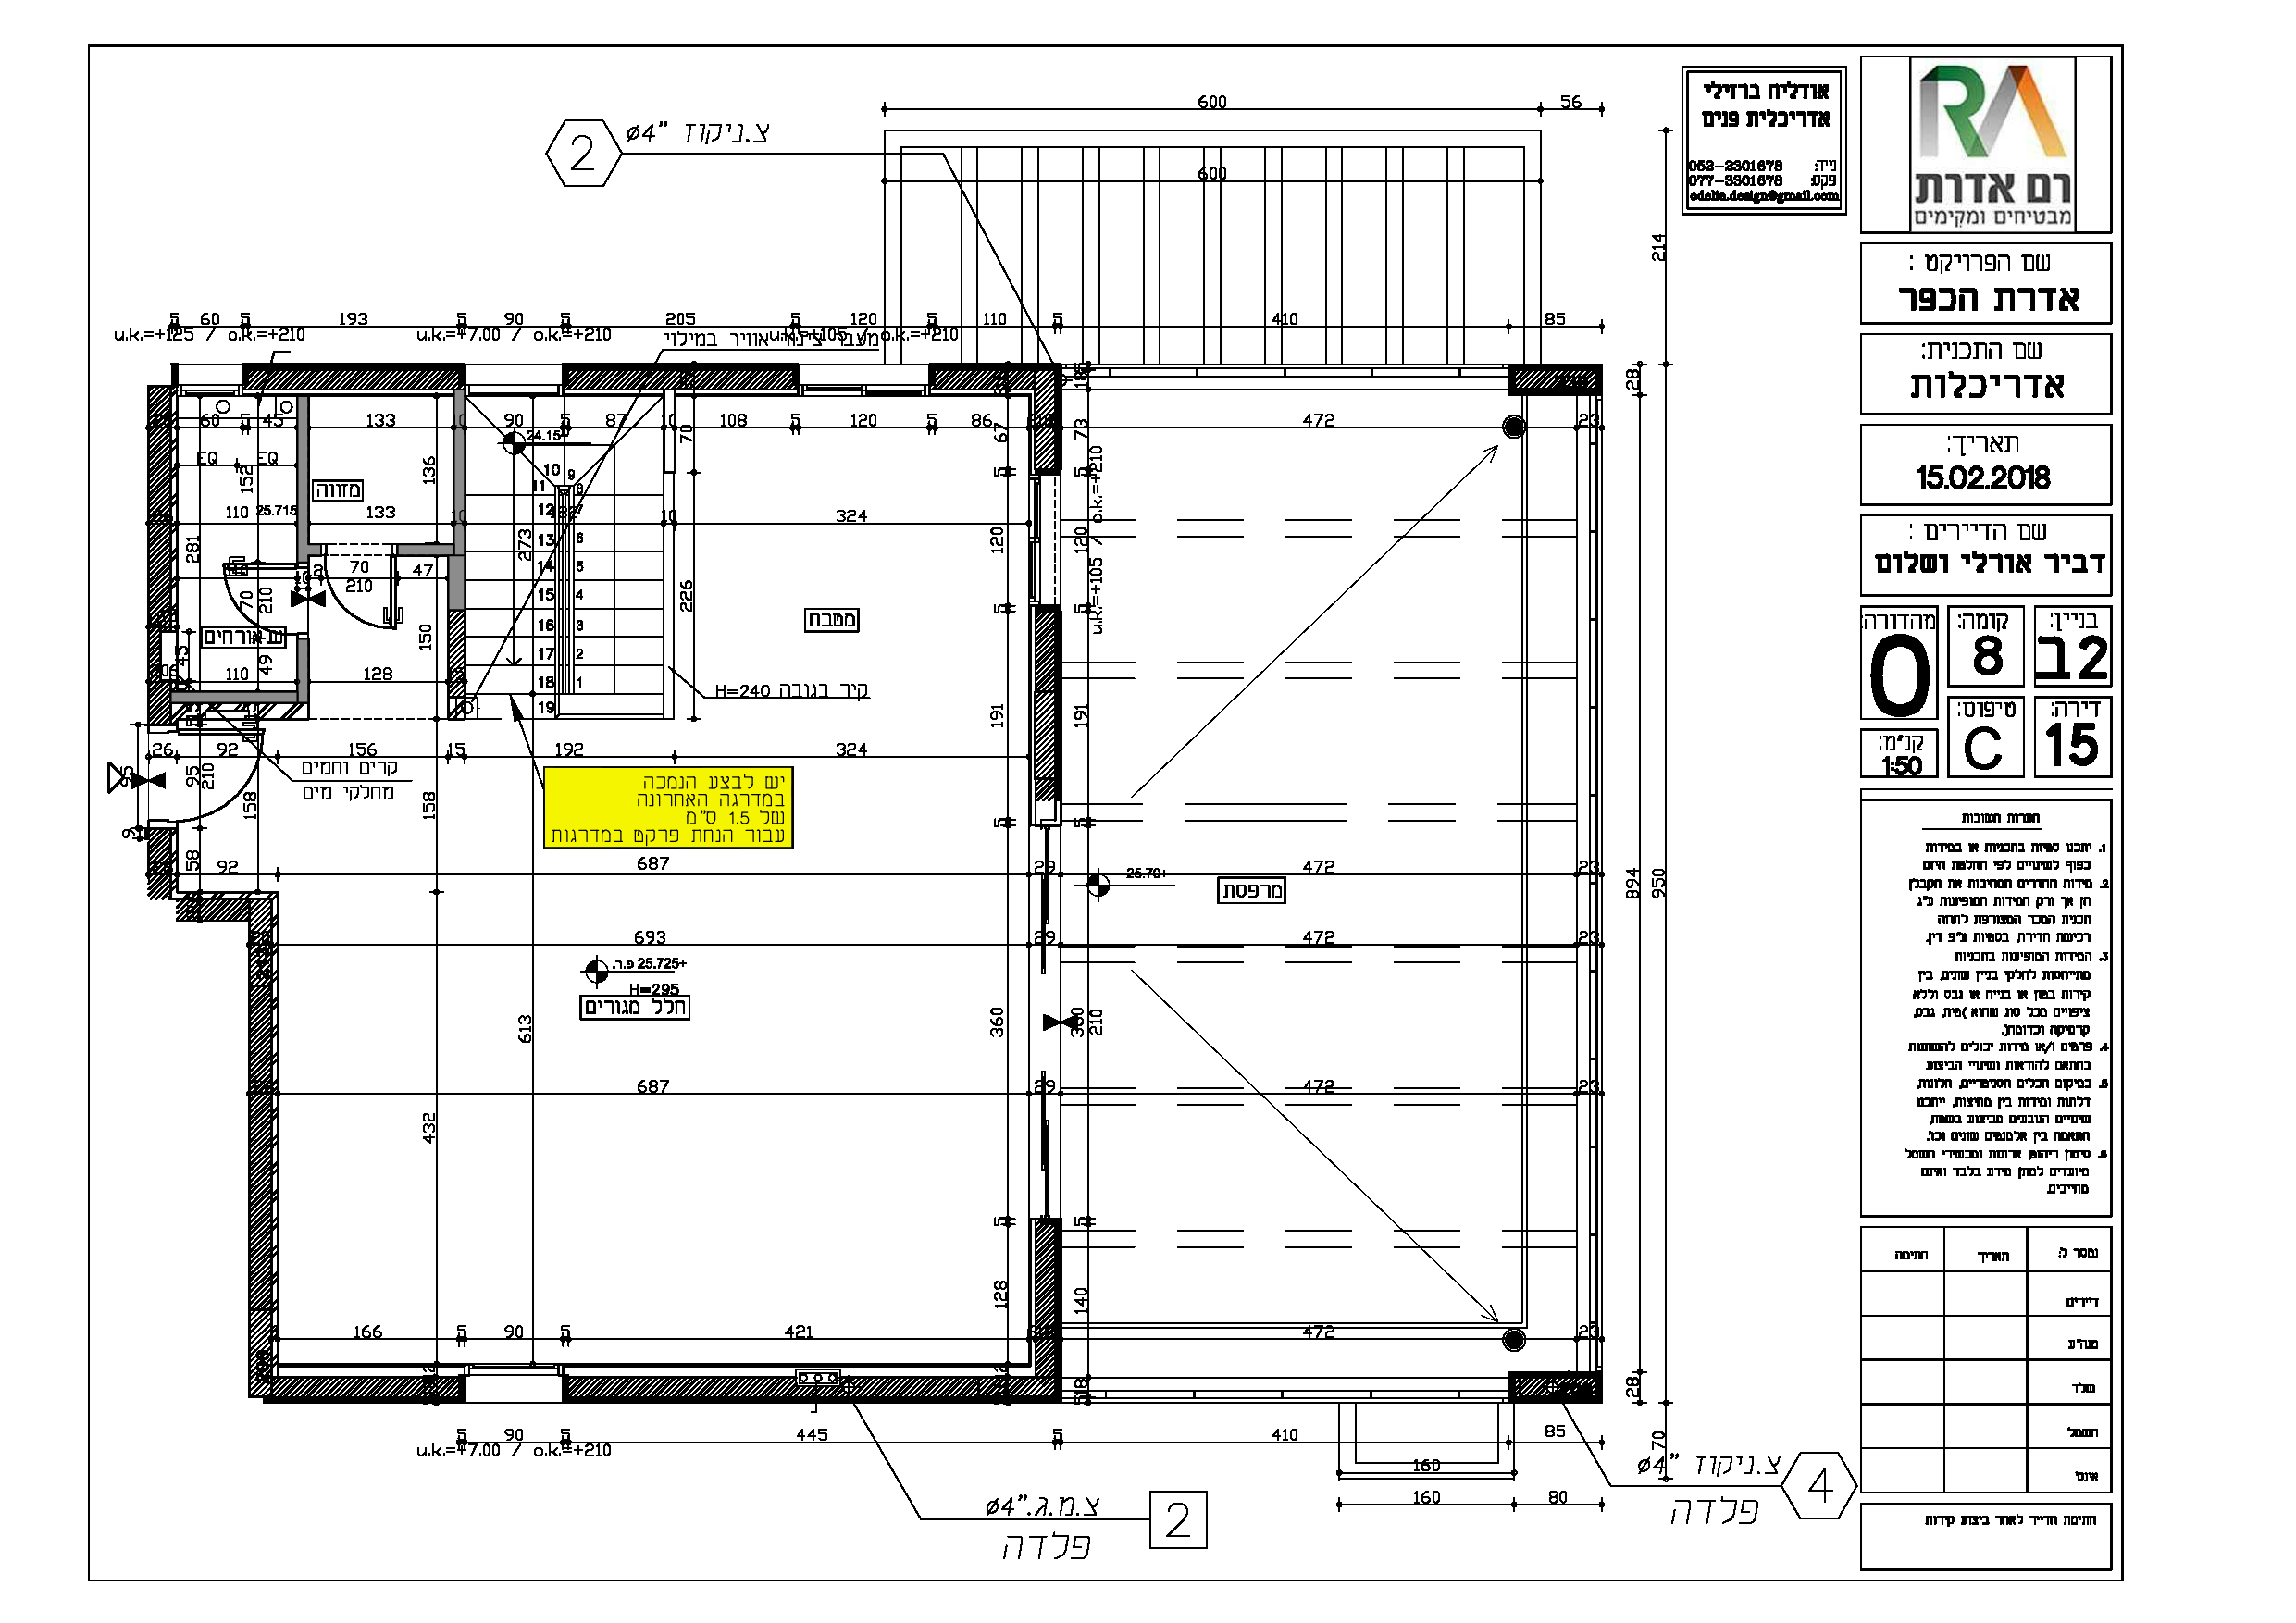wall: (566, 1375, 1065, 1400), (248, 917, 271, 1396), (146, 386, 177, 631), (234, 362, 469, 390), (1026, 611, 1059, 794), (271, 1374, 457, 1403), (560, 367, 791, 390)
window: (466, 1363, 560, 1375), (806, 386, 928, 395)
